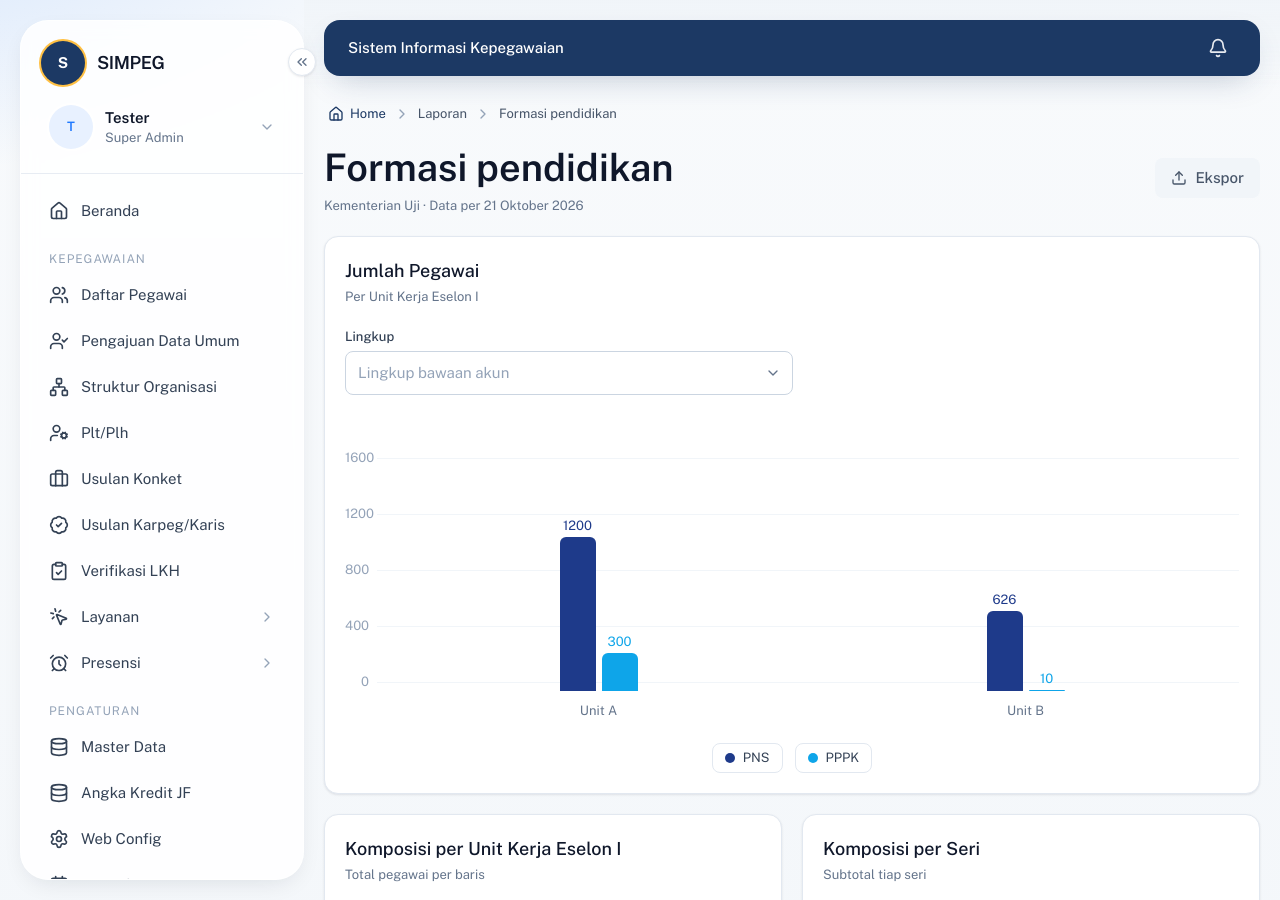
LaporanPage › CR-064 T4: tombol dan item ekspor berbahasa Indonesia ("Ekspor" / "Ekspor Excel")
Click the button with test id "export-trigger": click(1208, 178) [1155,158,1260,198]
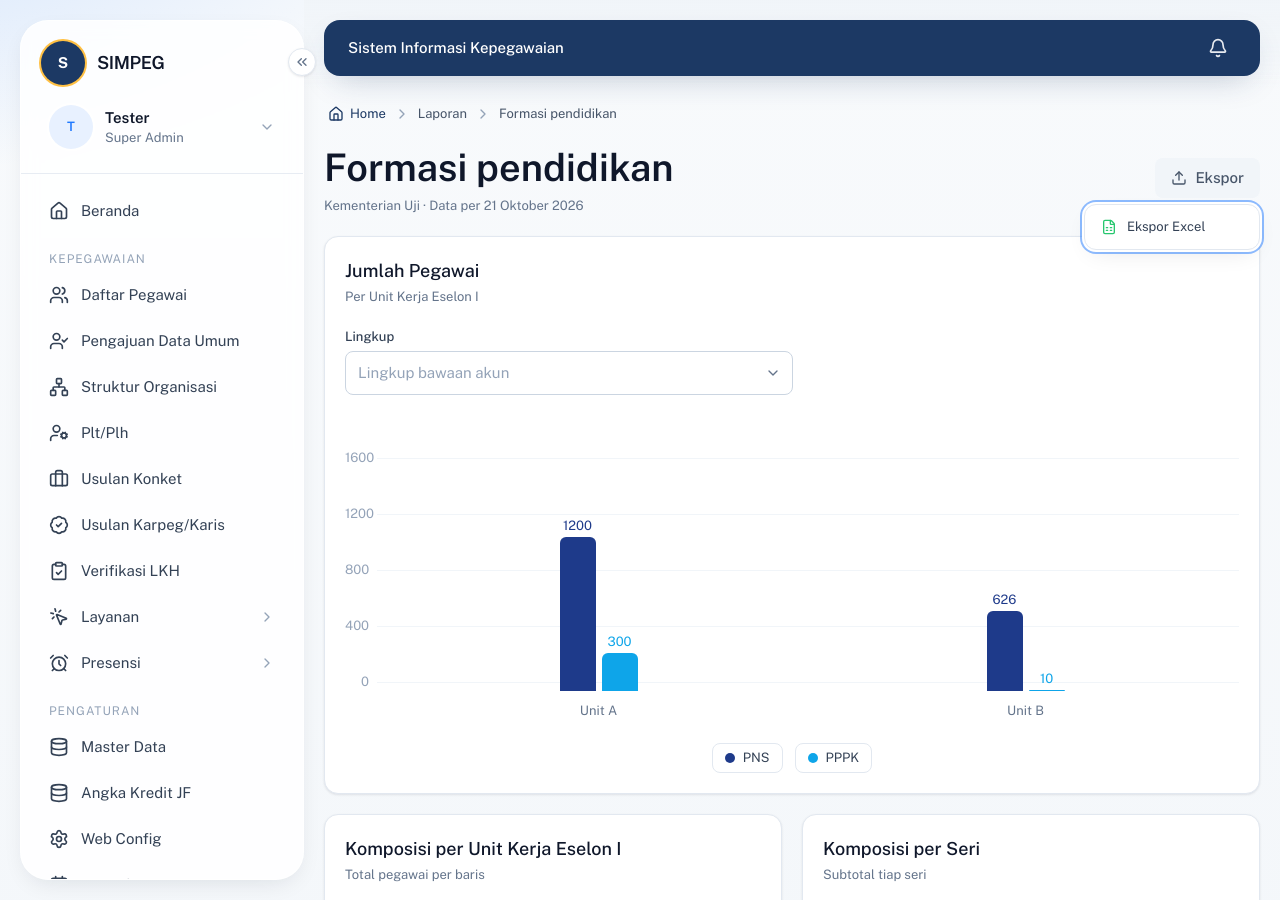
Expected: the menu item "Ekspor Excel" is shown, [1101,219,1205,235]
